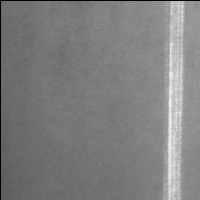scratches: (161, 1, 189, 200)
